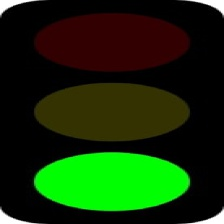semaforo: (1, 1, 224, 224)
